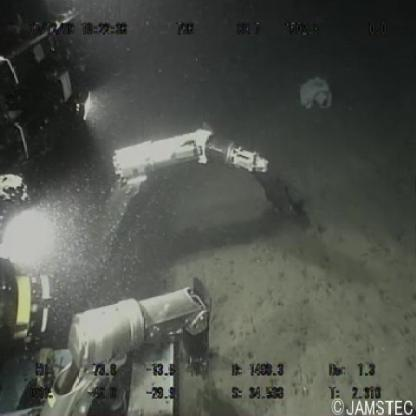Rov: (1, 1, 272, 416)
Rác: (294, 72, 335, 116)
